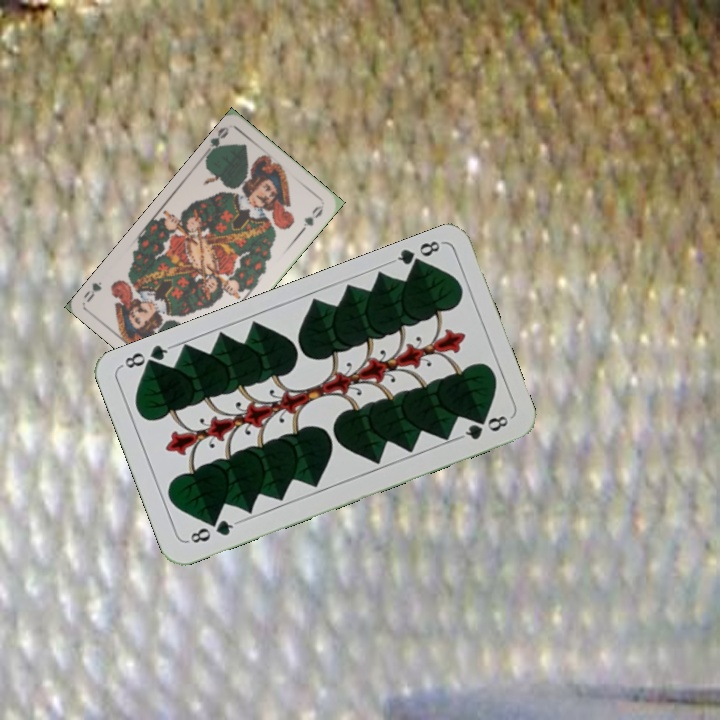G8: (388, 236, 446, 273), (183, 516, 240, 546)
GO: (200, 123, 231, 159)
